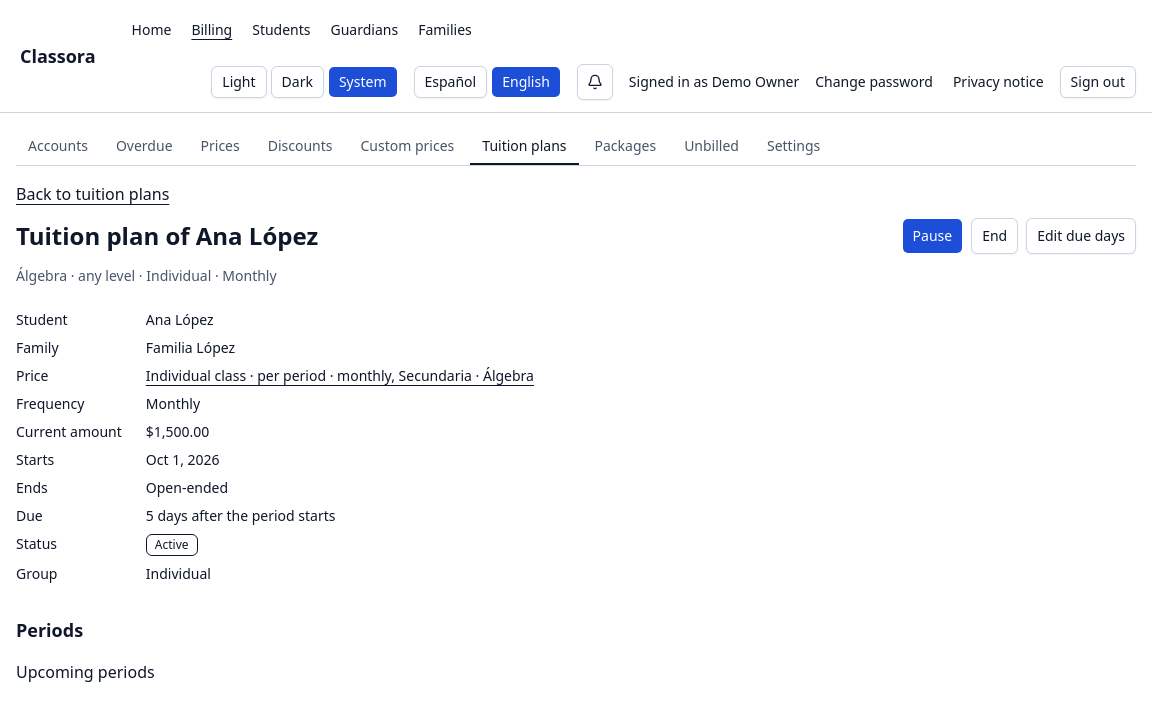
it: the actions (E4) › pauses until resumed after the last pause, with the version
The width and height of the screenshot is (1152, 710).
Click the button "Pause": x=932, y=236 [902,218,963,254]
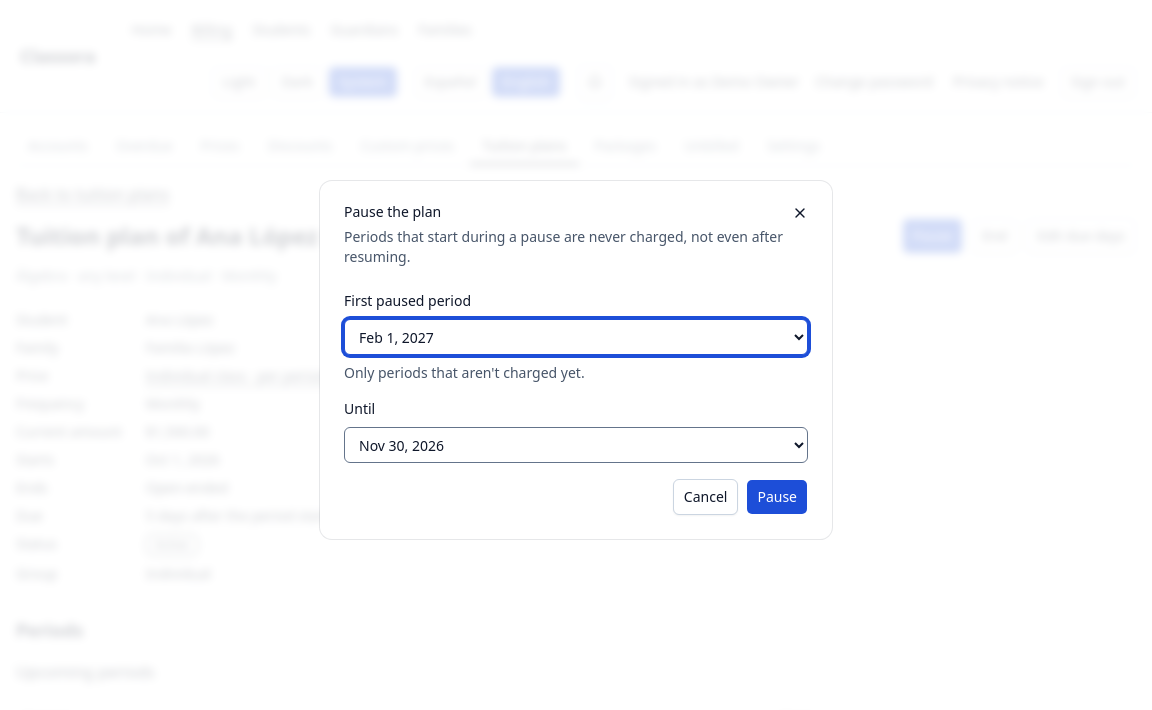
Select "Feb 1, 2027" in the dropdown labelled "First paused period": x=576, y=337 [344,319,808,355]
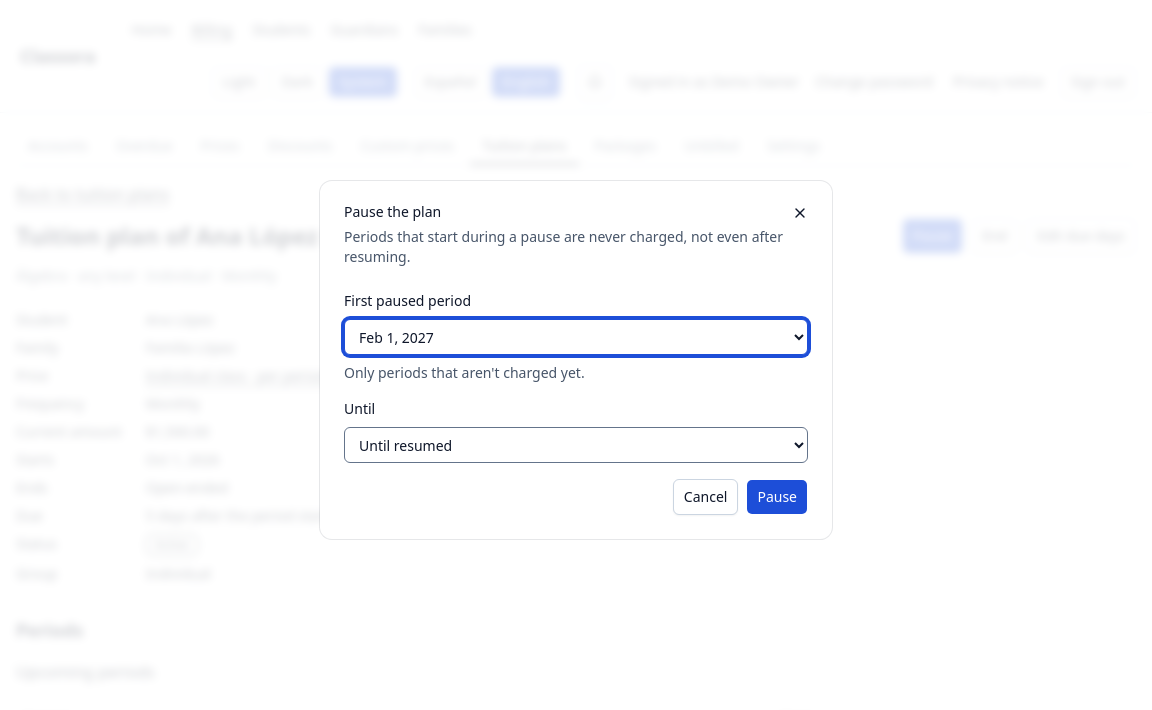
Click the button "Pause": x=777, y=497 [746,479,808,515]
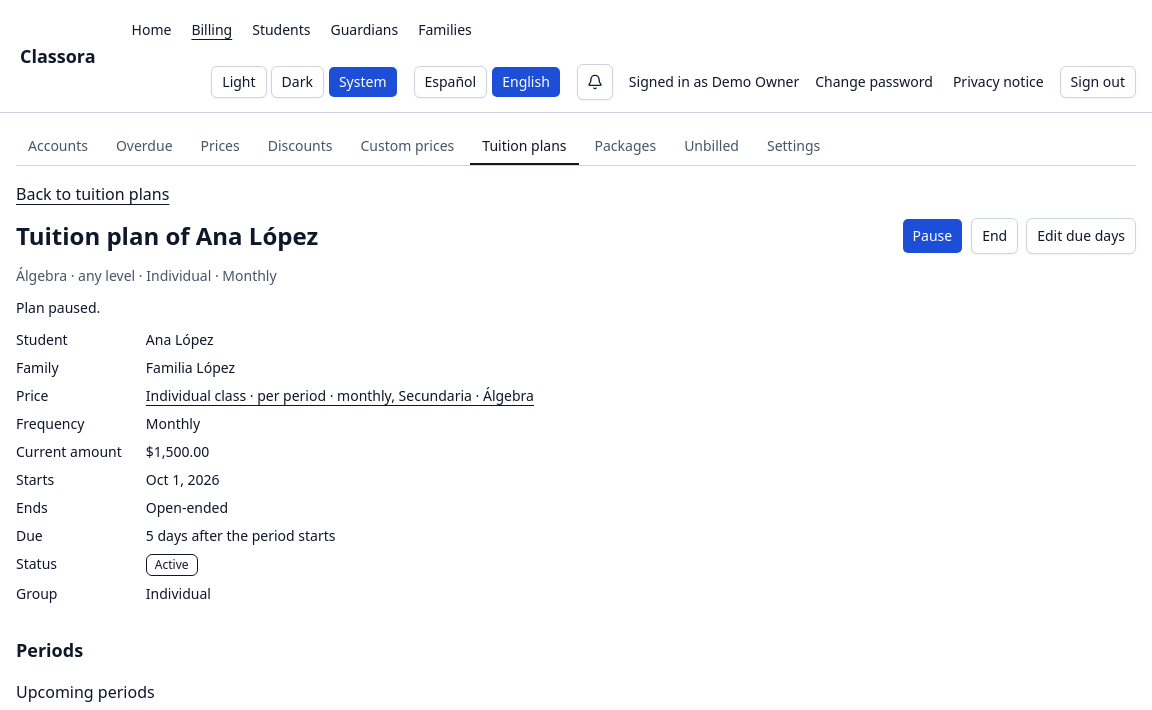
Check: the dialog is gone
Check: the message "Plan paused." is shown, box [16,298,100,317]
